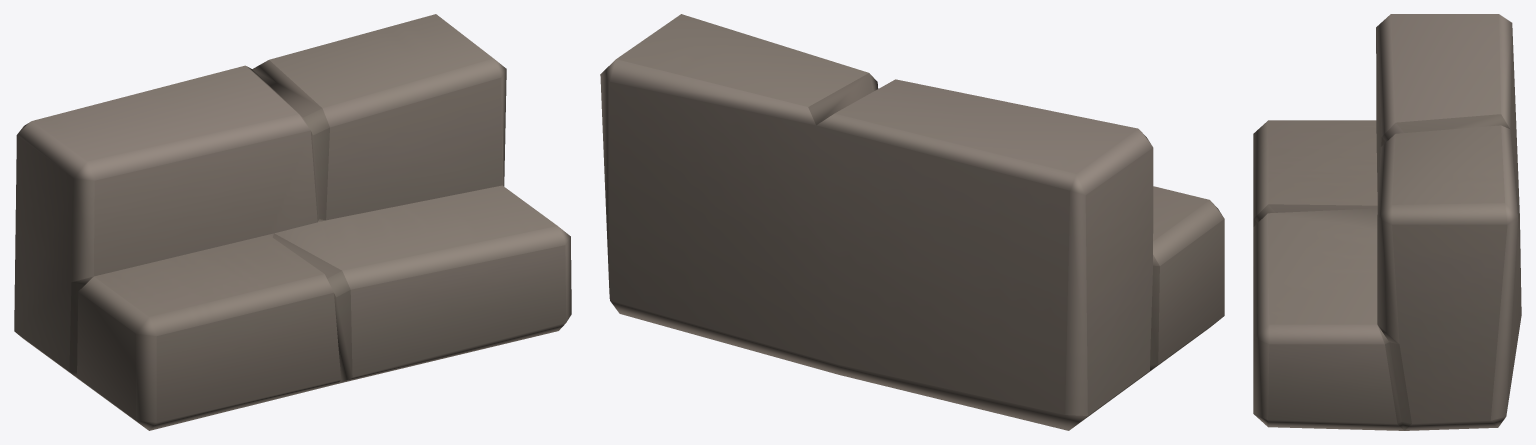
File: elf_stairs_half_1_shade_4.fbx
3 views of the same model, side by side, from view 1: azimuth 30°, elevation 25°; view 2: azimuth 150°, elevation 25°; view 3: azimuth 270°, elevation 25° (orthographic). The views are drawn at different scales.
Parts seen in each view (by area): view 1: elf_stairs_half_1_shade_4; view 2: elf_stairs_half_1_shade_4; view 3: elf_stairs_half_1_shade_4.
Part boxes in pixels (x1,y1,x2,y2): elf_stairs_half_1_shade_4: (14, 14, 571, 430); elf_stairs_half_1_shade_4: (600, 14, 1224, 430); elf_stairs_half_1_shade_4: (1253, 14, 1521, 430).
Size of the model in its own units: 100 by 50.87 by 54.57.
